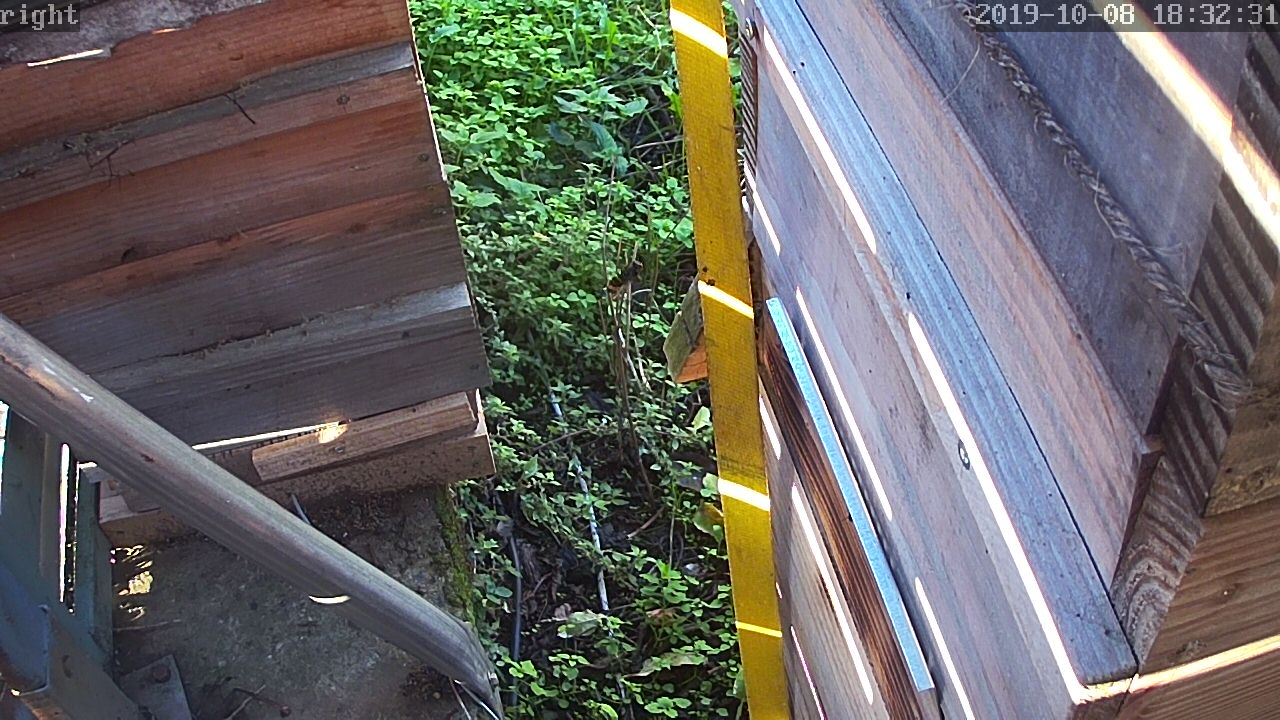hornet: (603, 256, 649, 305)
